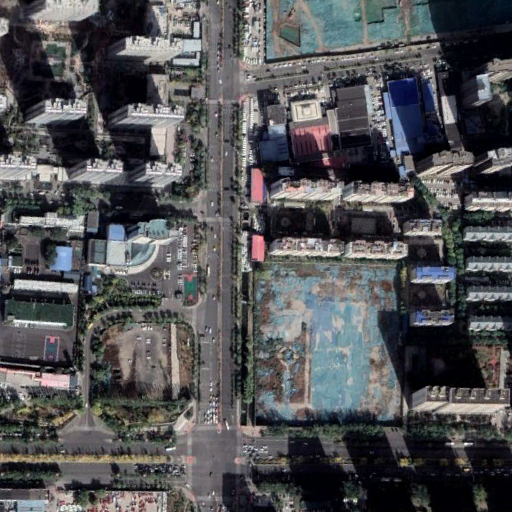cw: (252, 259, 407, 425), (264, 3, 432, 60)
